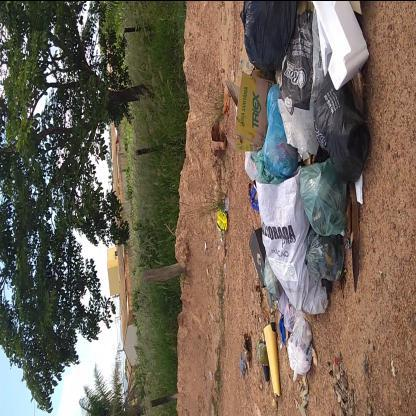lixo: (228, 0, 372, 378)
